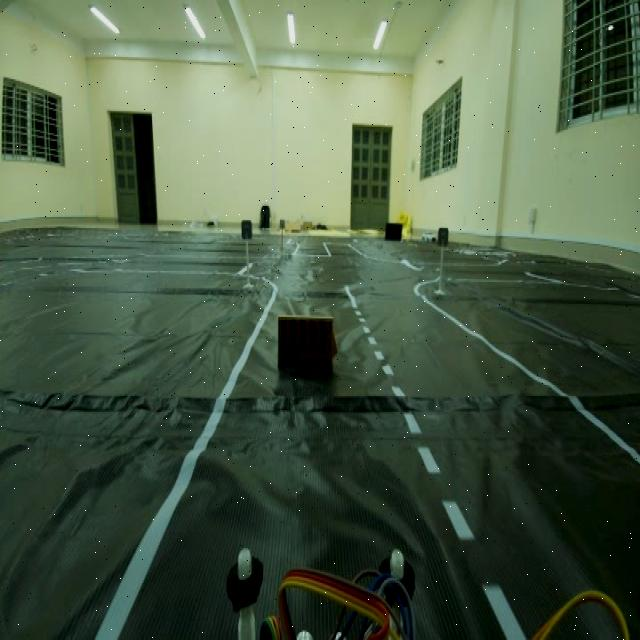roadblock: (271, 302, 348, 406)
